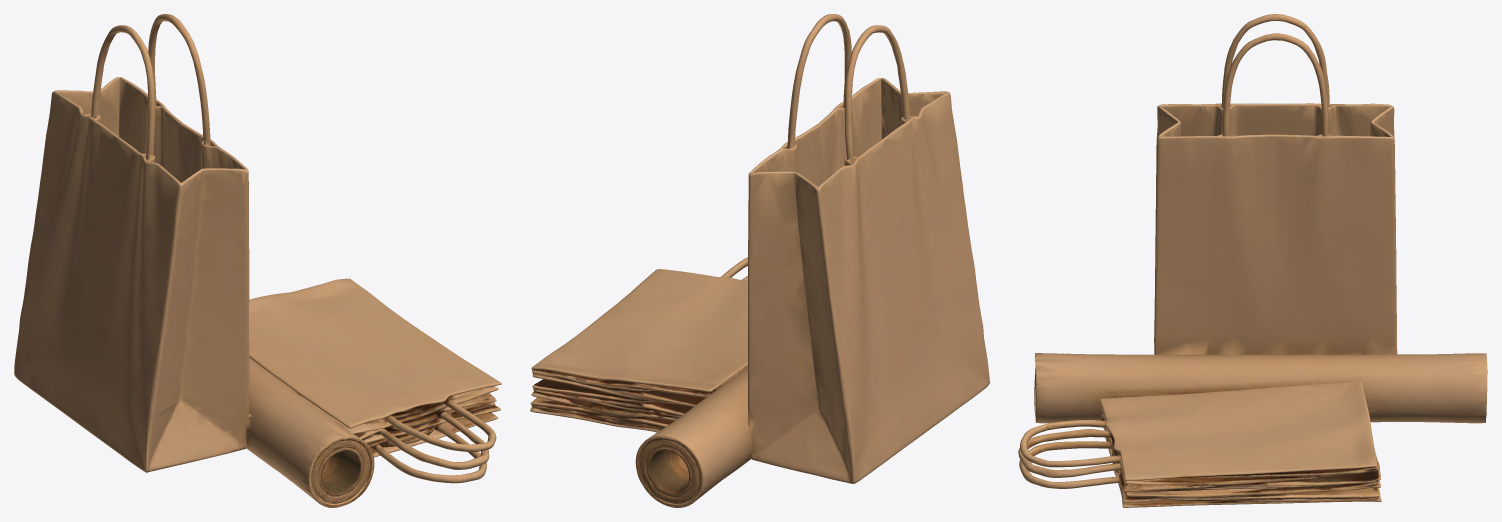
Rendered from bolsa.glb.
3 renders of one model, left to right at view 1: azimuth 30°, elevation 25°; view 2: azimuth 150°, elevation 25°; view 3: azimuth 270°, elevation 25°, orthographic. The views are drawn at different scales.
Parts seen in each view (by area): view 1: tripo_node_fb48d4a9-dcec-4f2f-9c42-33fb7a4cdabd; view 2: tripo_node_fb48d4a9-dcec-4f2f-9c42-33fb7a4cdabd; view 3: tripo_node_fb48d4a9-dcec-4f2f-9c42-33fb7a4cdabd.
Boxes of the visible parts, box(x1,y1,x2,y2) form: tripo_node_fb48d4a9-dcec-4f2f-9c42-33fb7a4cdabd: box(14, 14, 501, 507); tripo_node_fb48d4a9-dcec-4f2f-9c42-33fb7a4cdabd: box(530, 14, 989, 507); tripo_node_fb48d4a9-dcec-4f2f-9c42-33fb7a4cdabd: box(1018, 14, 1487, 507).
Size of the model in its own units: 0.7695 by 0.8731 by 0.9998.
1 material, 1 textured.
